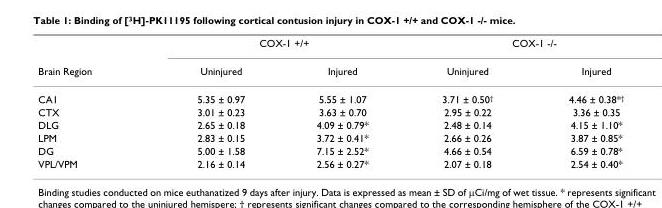table: (37, 36, 623, 169)
table column: (143, 36, 279, 169), (404, 36, 530, 169), (279, 36, 404, 169), (37, 36, 143, 169), (530, 36, 623, 169)
table column header: (37, 36, 623, 84)
table row: (37, 56, 623, 84), (37, 84, 623, 105), (37, 36, 623, 56), (37, 105, 623, 118), (37, 118, 623, 131), (37, 131, 623, 144), (37, 144, 623, 157), (37, 157, 623, 169)
table spanning cell: (143, 36, 404, 56), (37, 36, 143, 84), (404, 36, 623, 56)
